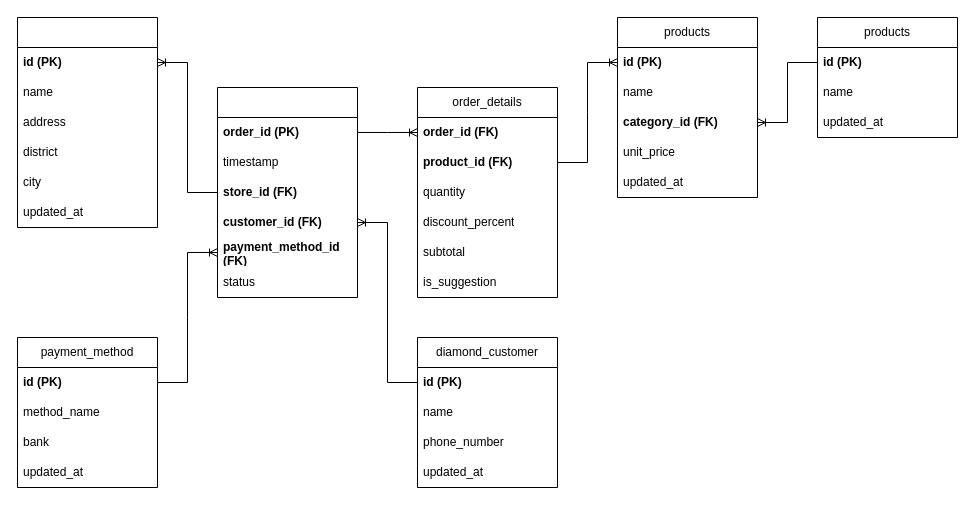
This 975x505 diagram has some shape labels left out. Each missing label, with the box of its shape:
orders: (216, 86, 358, 298)
stores: (16, 16, 158, 228)
